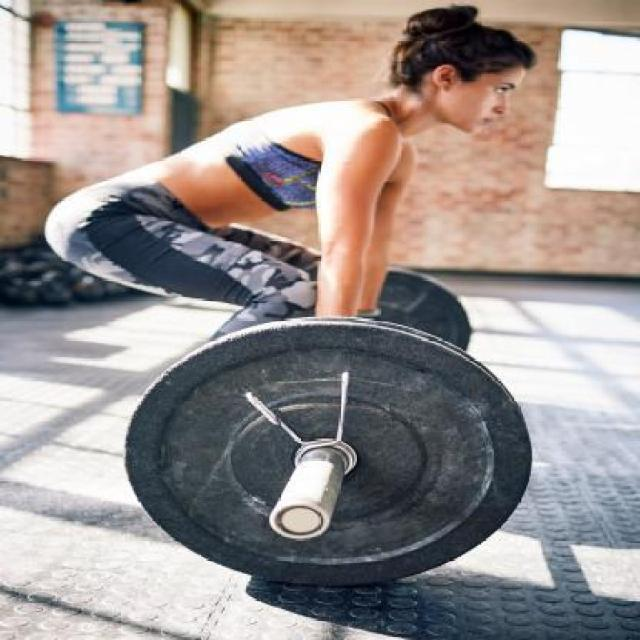barbell: (118, 312, 537, 596)
